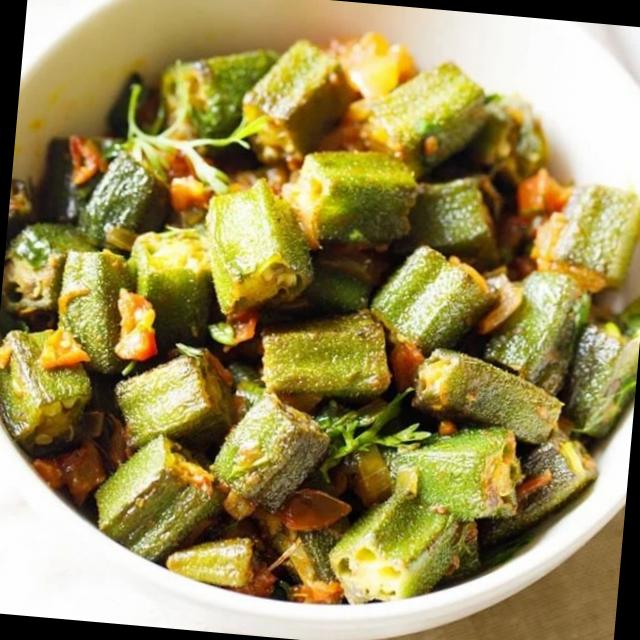BhindiMasala: (0, 3, 640, 630)
